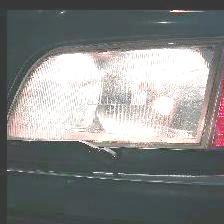head_lamp: (68, 115, 175, 188)
